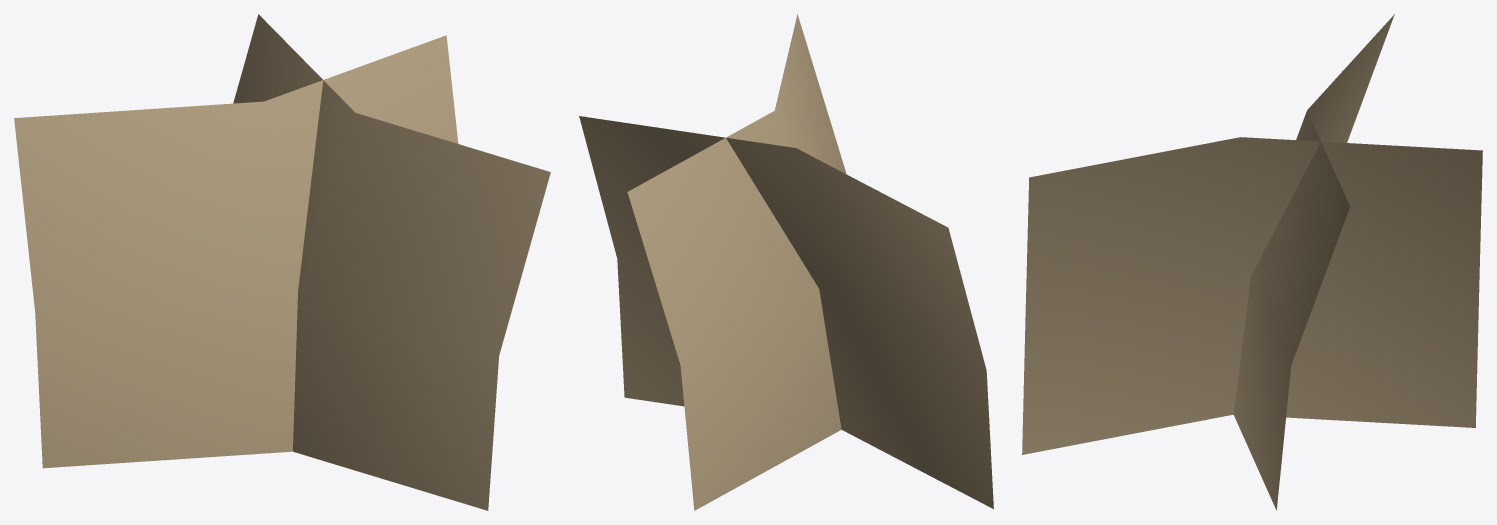
The model's file is GrassPlanes_b_TwoS_02.fbx.
3 renders of one model, left to right at view 1: azimuth 30°, elevation 25°; view 2: azimuth 150°, elevation 25°; view 3: azimuth 270°, elevation 25°, orthographic. The views are drawn at different scales.
Parts seen in each view (by area): view 1: GrassPlanes_b_TwoS_02; view 2: GrassPlanes_b_TwoS_02; view 3: GrassPlanes_b_TwoS_02.
Boxes of the visible parts, <box> form: GrassPlanes_b_TwoS_02: <box>14,14,550,510</box>; GrassPlanes_b_TwoS_02: <box>579,14,993,510</box>; GrassPlanes_b_TwoS_02: <box>1022,14,1482,510</box>.
Size of the model in its own units: 90.39 by 66 by 89.27.
